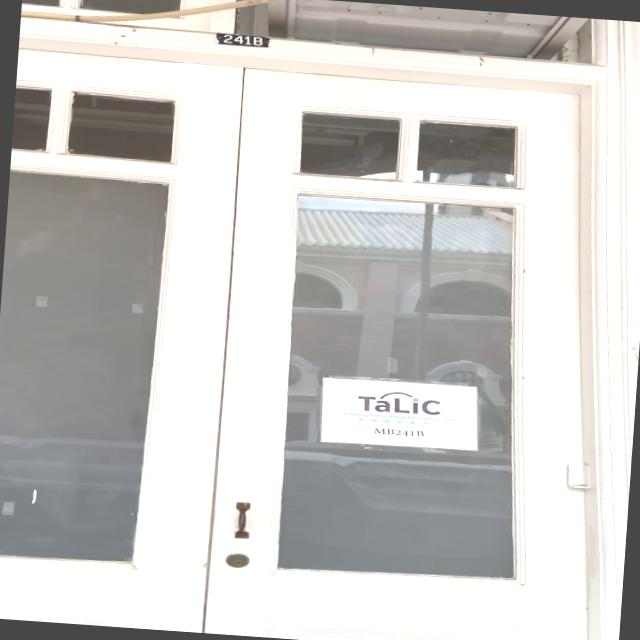room241b: (215, 30, 271, 50)
